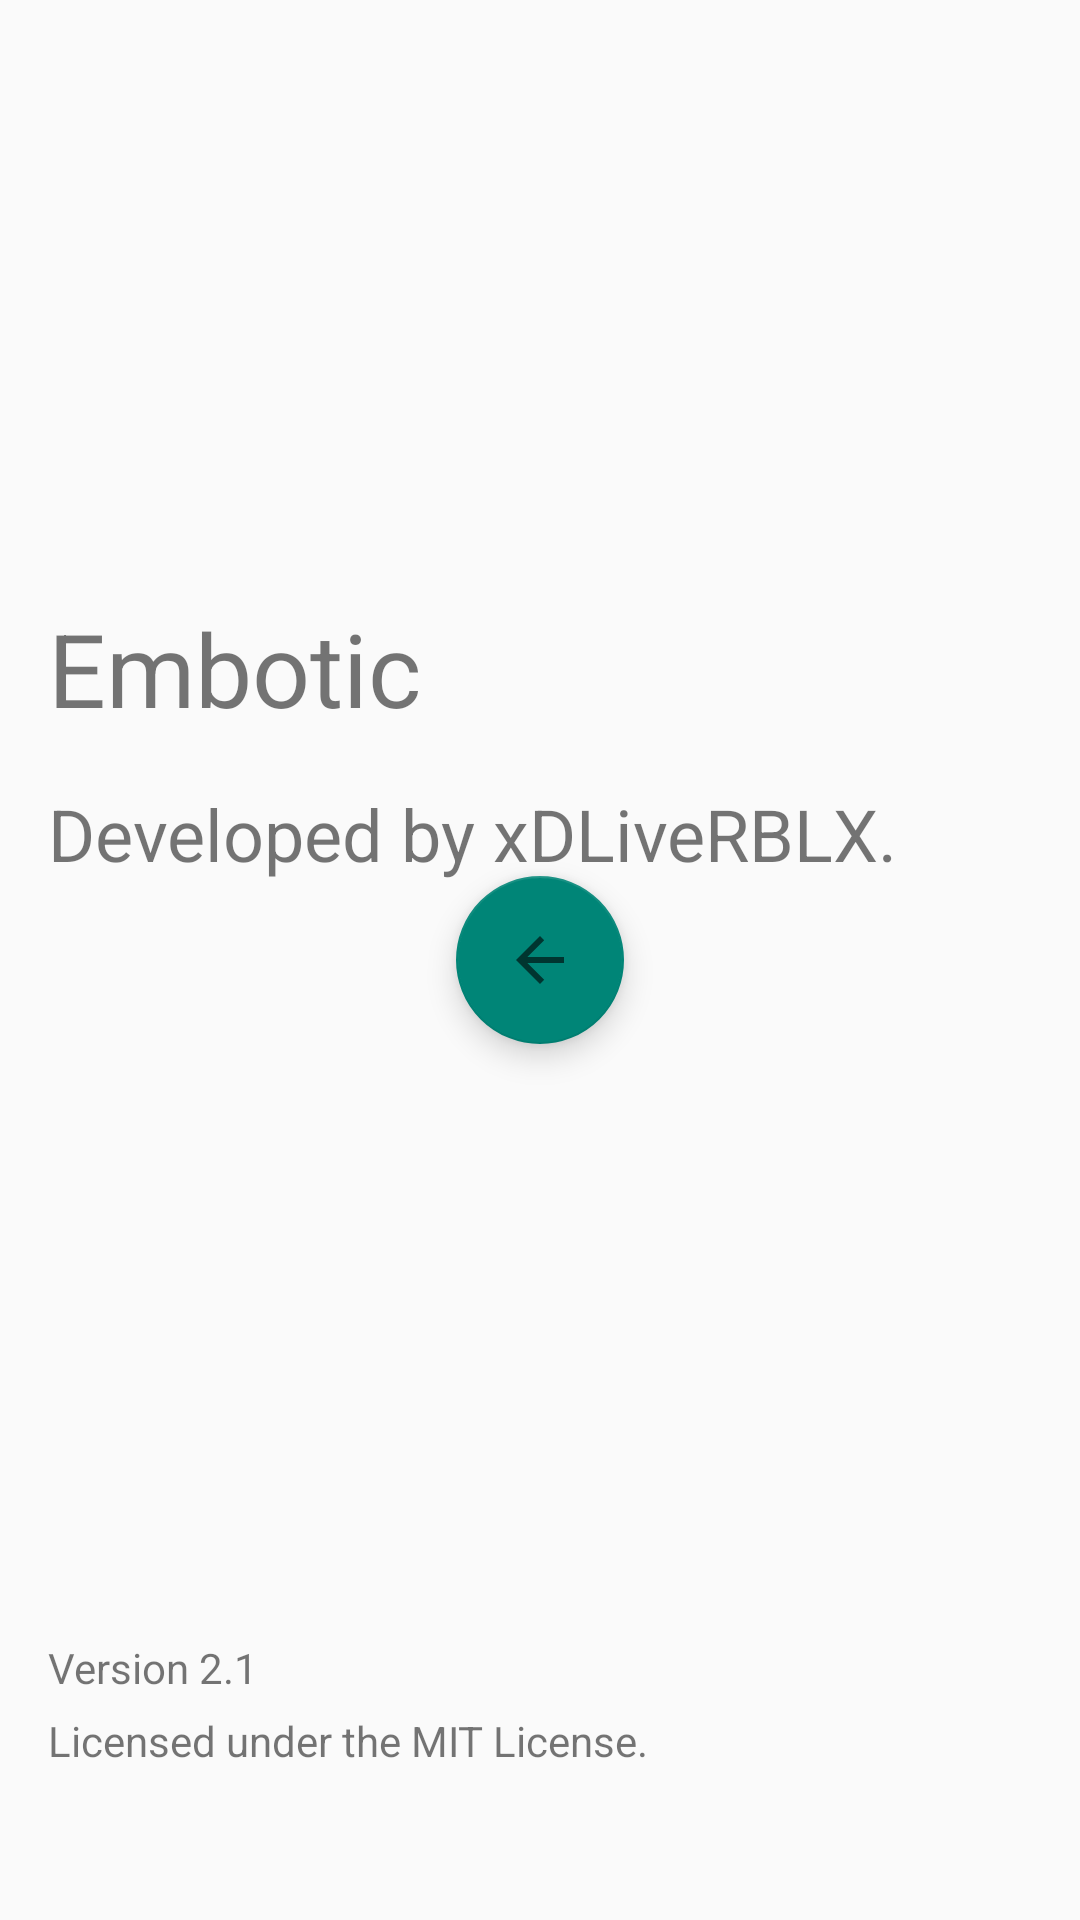

Icons on this 1080×1920 Android screen, each with its box as (x1, y1, x2, y2):
Back: (456, 876, 624, 1044)
